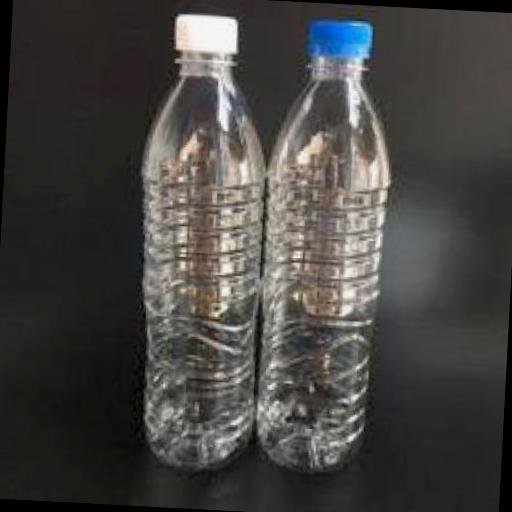plastic: (128, 8, 280, 472), (254, 15, 403, 474), (306, 16, 378, 60), (178, 12, 243, 58)
